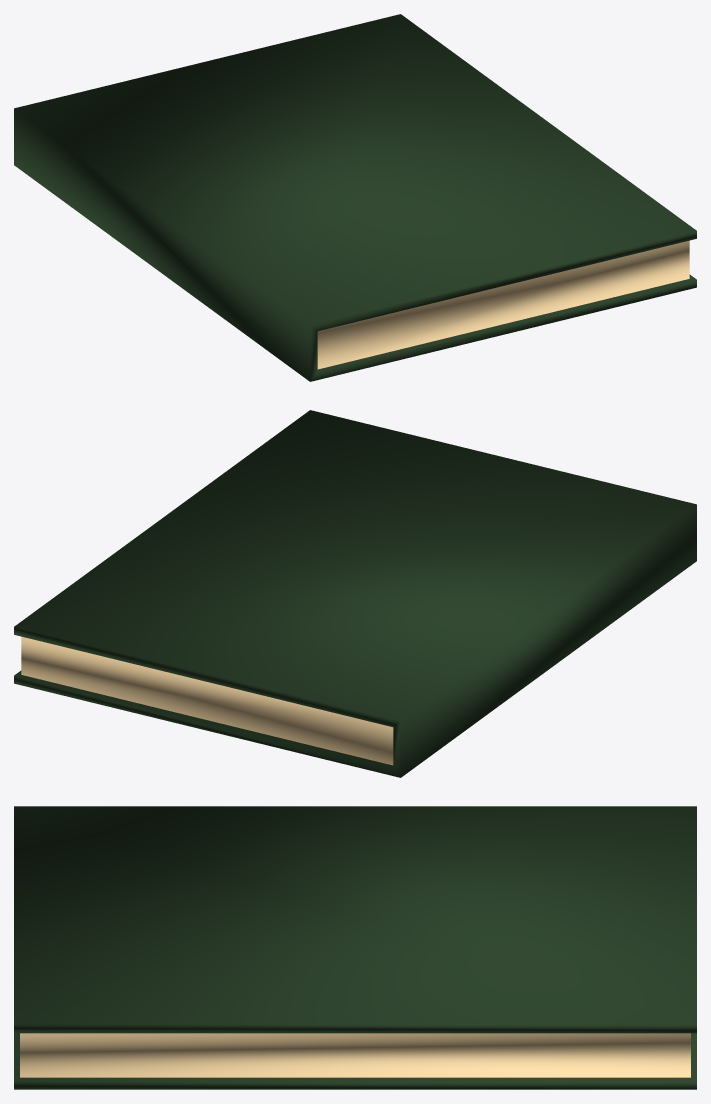
Rendered from journal_uv_shrink.obj.
3 renders of one model, top to bottom at view 1: azimuth 30°, elevation 25°; view 2: azimuth 150°, elevation 25°; view 3: azimuth 270°, elevation 25°, orthographic. The views are drawn at different scales.
Parts seen in each view (by area): view 1: Cube1; view 2: Cube1; view 3: Cube1.
Part boxes in pixels (box(x1,y1,x2,y2)): Cube1: box(14, 14, 696, 381); Cube1: box(14, 410, 696, 777); Cube1: box(14, 806, 696, 1089).
Bounding box in the file's own units: 1.51 × 0.2115 × 2.
Materials: 1 (1 with a texture image).
